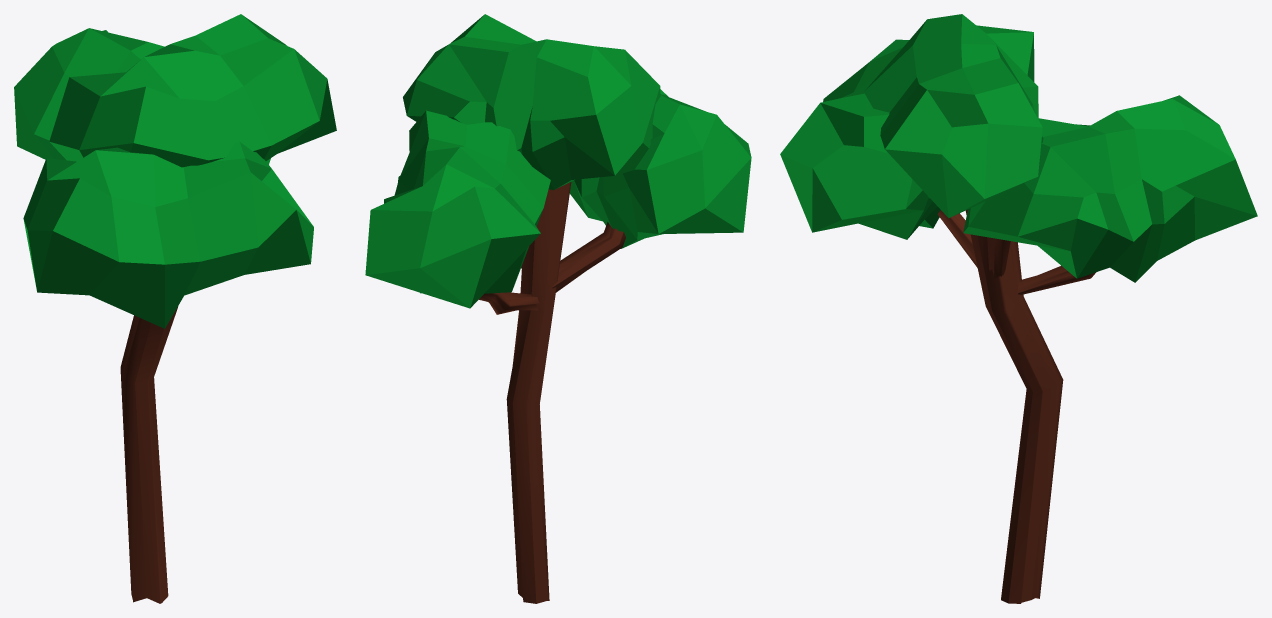
File: Tree5.fbx
3 renders of one model, left to right at view 1: azimuth 30°, elevation 25°; view 2: azimuth 150°, elevation 25°; view 3: azimuth 270°, elevation 25°, orthographic. The views are drawn at different scales.
Parts seen in each view (by area): view 1: Tree5; view 2: Tree5; view 3: Tree5.
Boxes of the visible parts, x1,y1,x2,y2 form: Tree5: (14, 14, 336, 603); Tree5: (365, 14, 751, 603); Tree5: (780, 14, 1257, 603).
Size of the model in its own units: 799 by 1346 by 1024.
